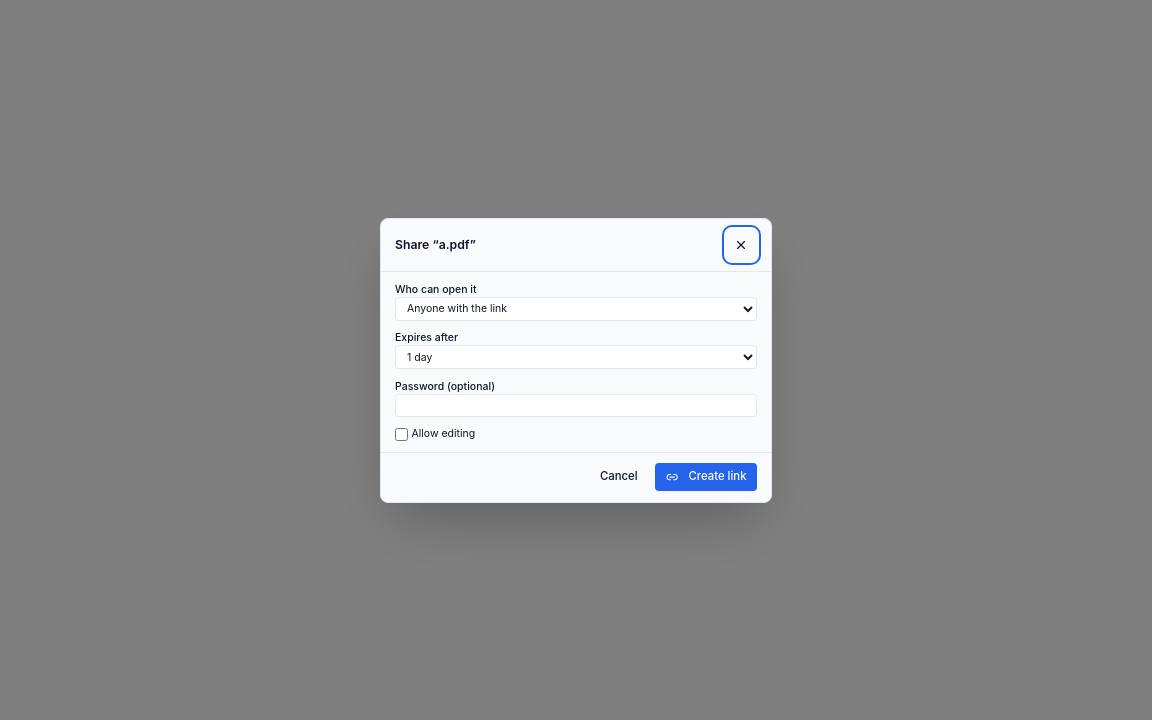
ShareLinkDialog › creates a link with the chosen options and shows it
Expected: the dropdown labelled "Expires after" shows "1 day", [395,345,757,369]
Type "pw" into the password field named "Link password". click: (576,405)
box: [395,394,757,416]
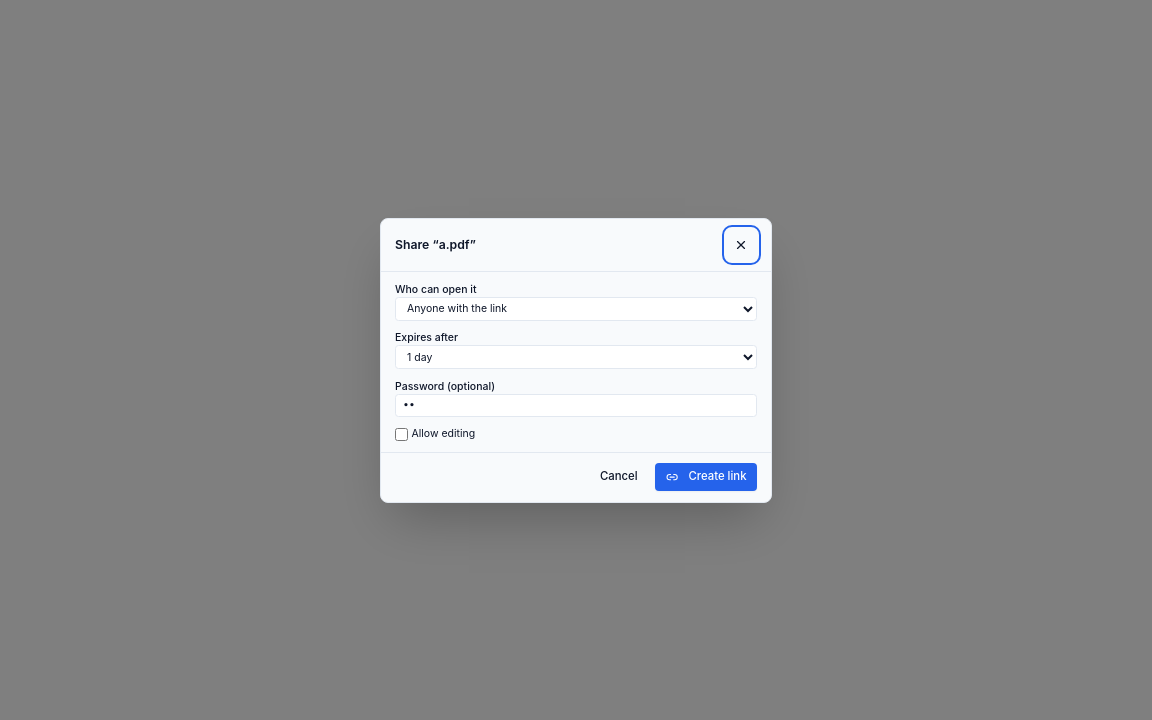
Click the checkbox labelled "Allow editing". click: (402,434)
box: [395,428,408,440]
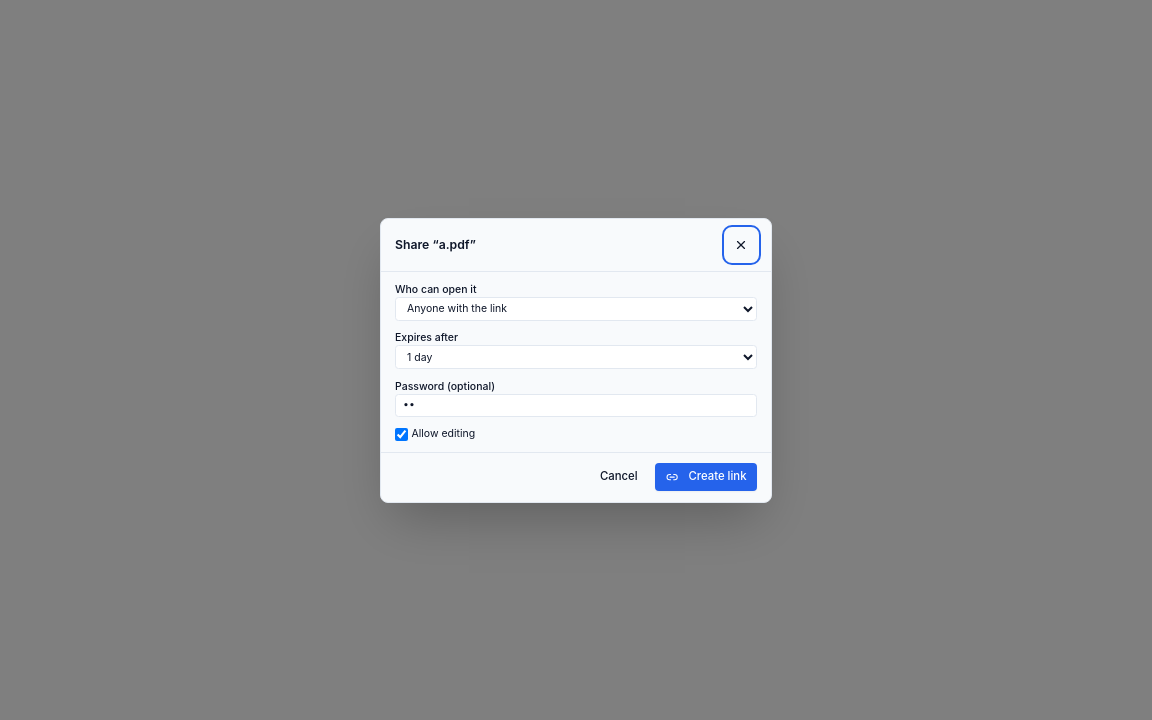
Click the button "Create link". click: (706,477)
box: [655,463,757,491]
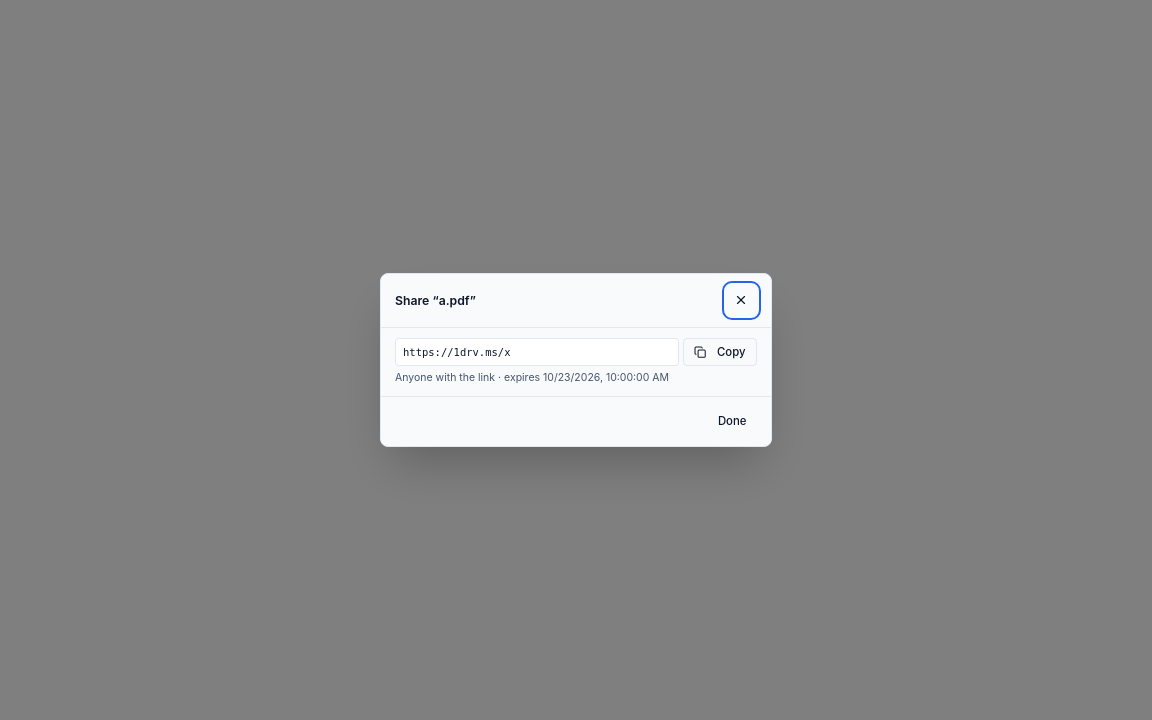
Result: the field named "Link" holds "https://1drv.ms/x" at [395,338,679,366]
